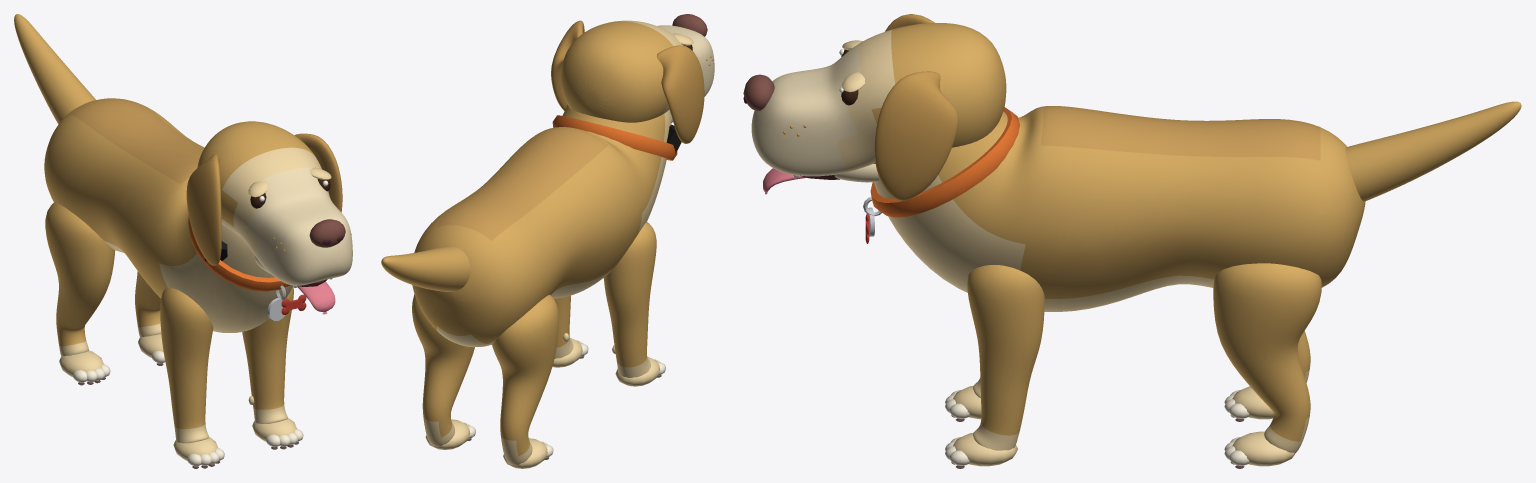
File: rusty.glb
3 views of the same model, side by side, from view 1: azimuth 30°, elevation 25°; view 2: azimuth 150°, elevation 25°; view 3: azimuth 270°, elevation 25° (orthographic). The views are drawn at different scales.
Visible parts, largest first — view 1: Rusty_Body, Rusty_Head, Rusty_LegBR, Rusty_LegFR, Rusty_LegFL, Rusty_Tail, Rusty_LegBL; view 2: Rusty_Body, Rusty_Head, Rusty_LegBR, Rusty_LegFR, Rusty_LegBL, Rusty_Tail, Rusty_LegFL; view 3: Rusty_Body, Rusty_Head, Rusty_LegBL, Rusty_LegFL, Rusty_Tail, Rusty_LegBR, Rusty_LegFR.
Boxes of the visible parts, box(x1,y1,x2,y2) form: Rusty_Body: box(44, 98, 306, 332); Rusty_Head: box(186, 121, 352, 314); Rusty_LegBR: box(45, 202, 115, 385); Rusty_LegFR: box(160, 287, 224, 468); Rusty_LegFL: box(242, 287, 303, 449); Rusty_Tail: box(14, 14, 95, 124); Rusty_LegBL: box(135, 271, 165, 365); Rusty_Body: box(412, 105, 681, 347); Rusty_Head: box(551, 14, 714, 143); Rusty_LegBR: box(492, 294, 558, 468); Rusty_LegFR: box(603, 222, 665, 386); Rusty_LegBL: box(412, 294, 475, 449); Rusty_Tail: box(381, 246, 470, 291); Rusty_LegFL: box(552, 295, 588, 367); Rusty_Body: box(863, 106, 1365, 311); Rusty_Head: box(743, 14, 1006, 200); Rusty_LegBL: box(1213, 263, 1321, 468); Rusty_LegFL: box(945, 265, 1044, 468); Rusty_Tail: box(1345, 101, 1521, 201); Rusty_LegBR: box(1224, 331, 1310, 421); Rusty_LegFR: box(945, 378, 981, 421).
Size of the model in its own units: 0.3412 by 0.8104 by 1.4.
